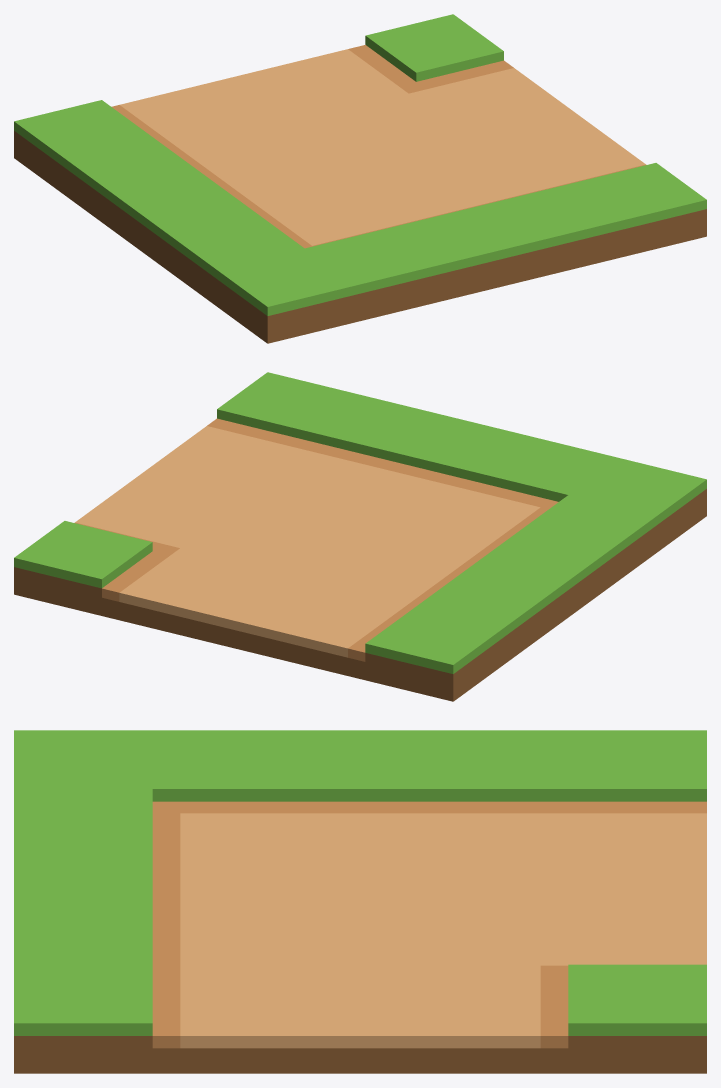
Rendered from path_corner.glb.
3 renders of one model, top to bottom at view 1: azimuth 30°, elevation 25°; view 2: azimuth 150°, elevation 25°; view 3: azimuth 270°, elevation 25°, orthographic. The views are drawn at different scales.
Visible parts, largest first — view 1: model_0; view 2: model_0; view 3: model_0.
Boxes of the visible parts, x1,y1,x2,y2 form: model_0: [14, 14, 706, 343]; model_0: [14, 372, 706, 701]; model_0: [14, 730, 706, 1073].
Size of the model in its own units: 2 by 0.16 by 2.
